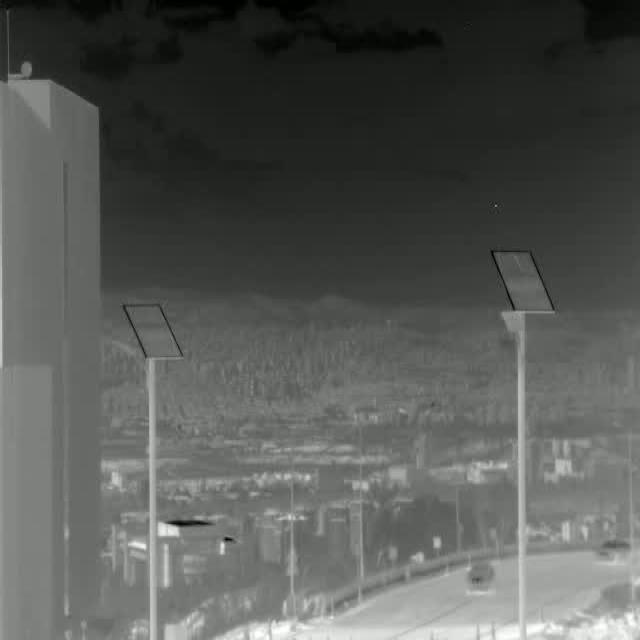Car: (466, 567, 496, 597), (596, 538, 630, 563)
